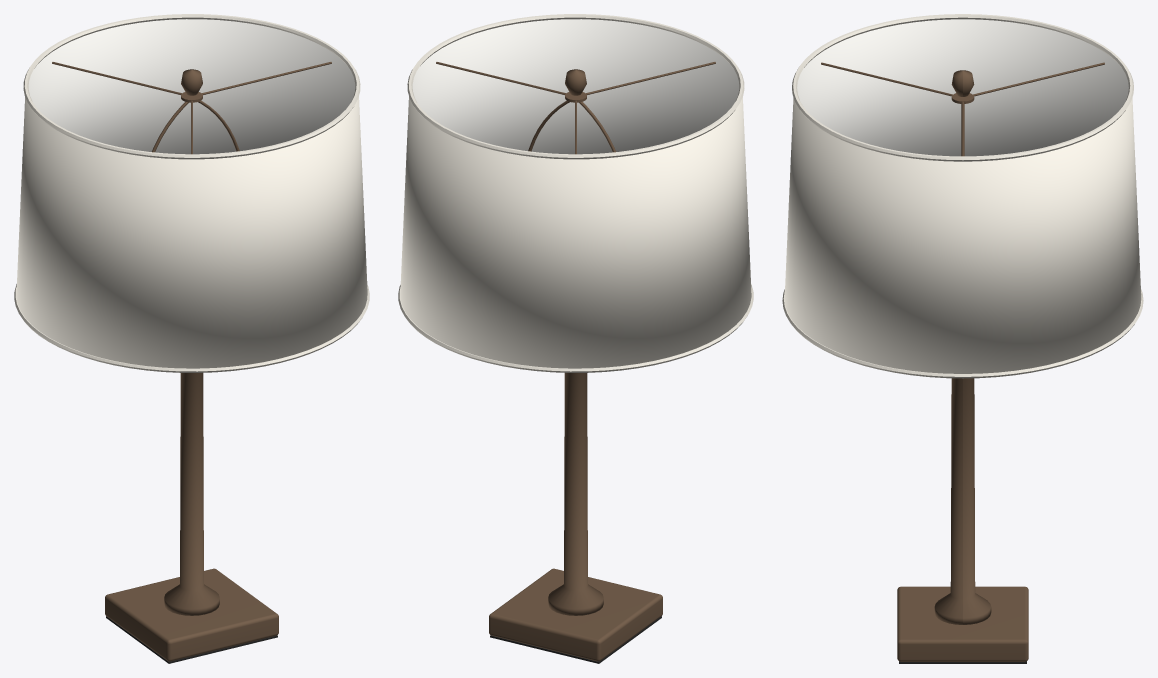
The model's file is hotel-table-lamp.glb.
3 views of the same model, side by side, from view 1: azimuth 30°, elevation 25°; view 2: azimuth 150°, elevation 25°; view 3: azimuth 270°, elevation 25° (orthographic).
Visible parts, largest first — view 1: lampshade, bronze; view 2: lampshade, bronze; view 3: lampshade, bronze.
Part boxes in pixels (bbox=[...]): lampshade: bbox=[14, 14, 369, 372]; bronze: bbox=[52, 62, 331, 661]; lampshade: bbox=[398, 14, 753, 372]; bronze: bbox=[436, 62, 715, 661]; lampshade: bbox=[782, 14, 1143, 378]; bronze: bbox=[821, 62, 1104, 661].
Bounding box in the file's own units: 0.3844 × 0.665 × 0.3844.
